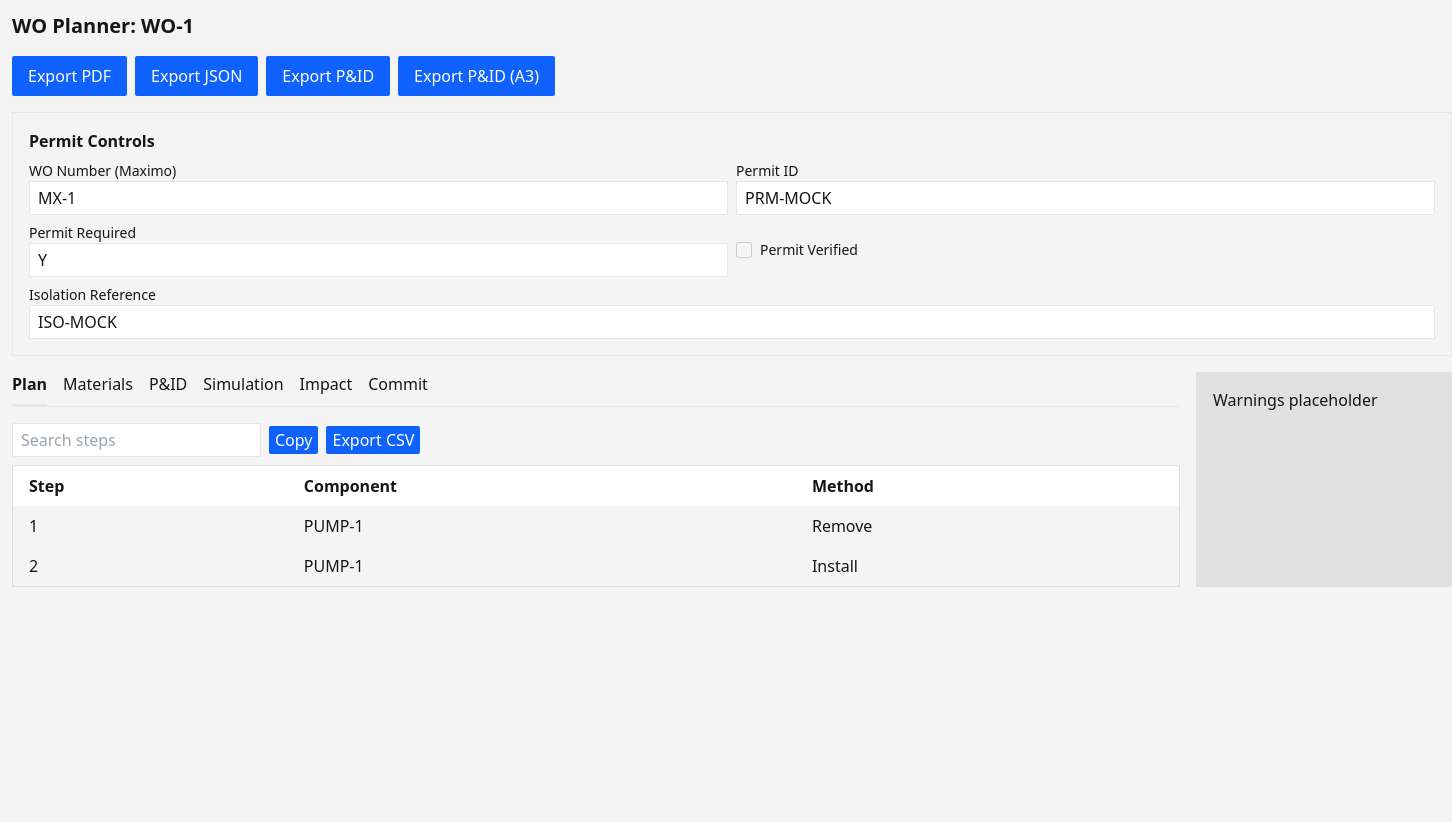
Test: plan tab filters steps and allows copy
Type "install" into the field with placeholder "Search steps" at (136, 440), box [12,423,261,457]
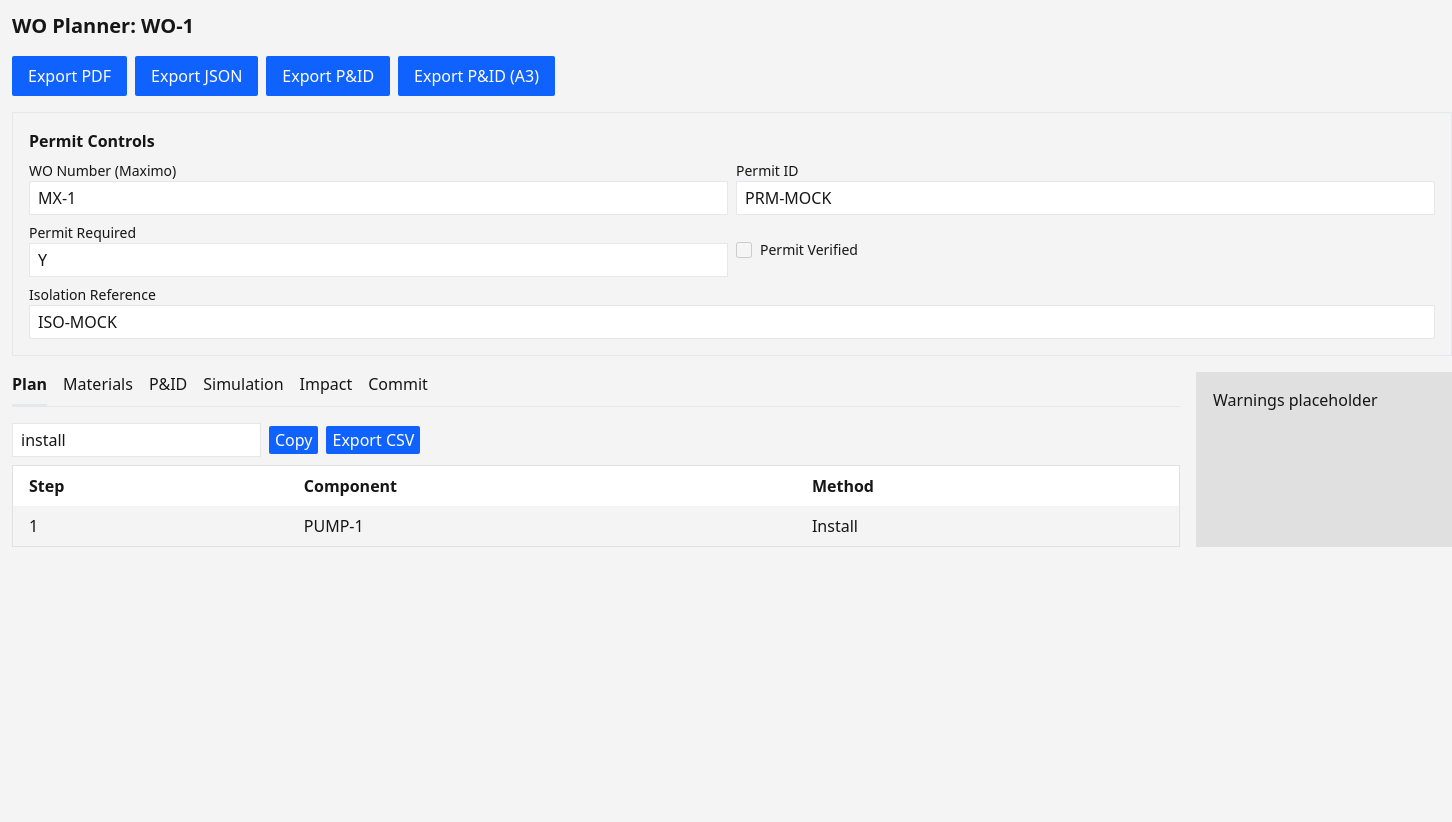
Now the text "Install" is shown, box [796,506,1180,546]
Now the text "Remove" is gone
